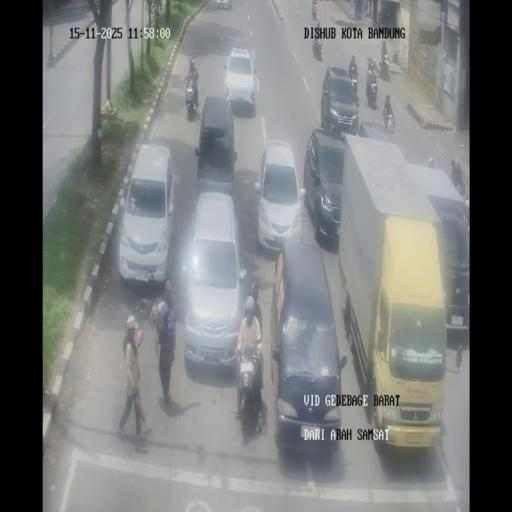car: (272, 240, 344, 455), (182, 191, 246, 368), (118, 142, 175, 286), (255, 138, 303, 255), (305, 127, 346, 246), (194, 96, 236, 196), (223, 47, 258, 116), (212, 0, 231, 9)
motorcycle: (234, 332, 266, 433), (247, 277, 262, 335), (184, 73, 200, 119), (366, 72, 378, 108), (349, 66, 359, 98), (462, 190, 469, 232), (378, 52, 390, 76), (386, 114, 396, 138), (367, 56, 378, 76), (313, 36, 322, 60), (456, 178, 467, 197), (361, 0, 368, 18), (155, 0, 163, 14), (312, 2, 318, 20), (378, 10, 382, 22)
truck: (337, 139, 457, 449)
